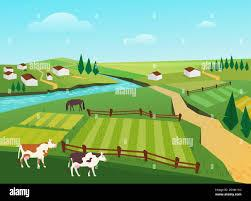cow: (17, 137, 56, 169), (67, 151, 107, 177)
